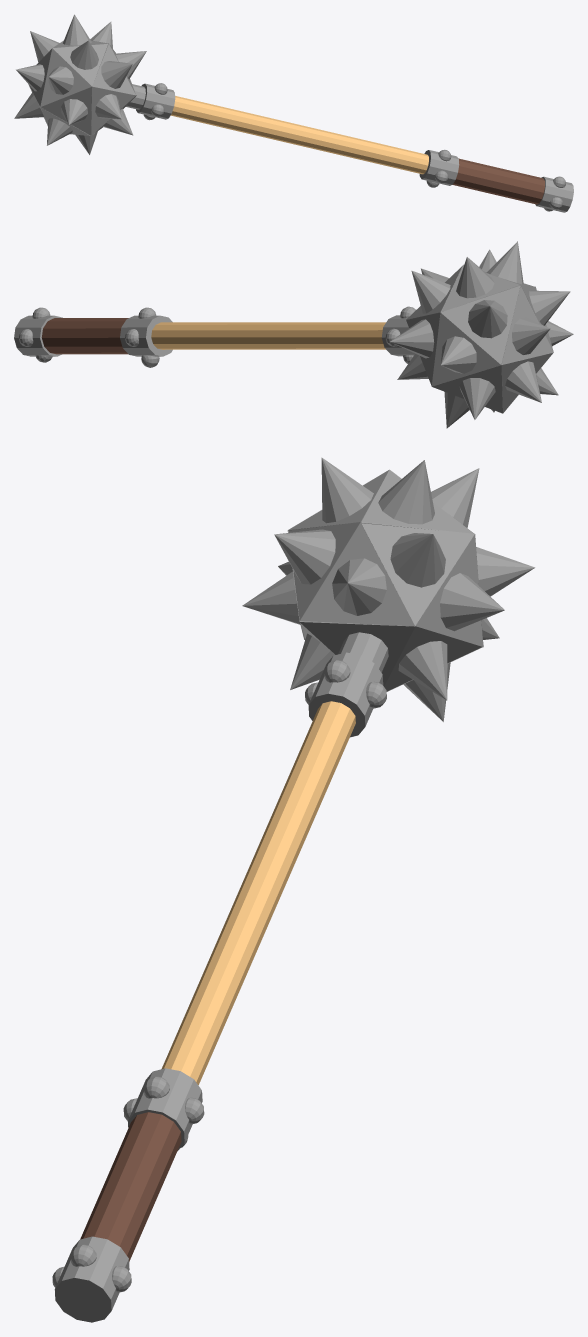
File: bua_1.glb
3 renders of one model, top to bottom at view 1: azimuth 30°, elevation 25°; view 2: azimuth 150°, elevation 25°; view 3: azimuth 270°, elevation 25°, orthographic. The views are drawn at different scales.
Parts seen in each view (by area): view 1: group1101575866, group959692072, group501792076, group171400807, group310584790, group2059926138, group1105470031, group976793585, group1827251229, group1788432290, group183288339, group2082710728 (+18 smaller); view 2: group1101575866, group1953257793, group623634967, group171400807, group1488587242, group501859776, group1950989773, group763270471, group1688169901, group2059926138, group800831554, group2000938442 (+19 smaller); view 3: group1101575866, group2059926138, group2039830722, group197489867, group310584790, group1152983945, group1762314495, group171400807, group183288339, group242294376, group1688169901, group800831554 (+15 smaller).
Boxes of the visible parts, box(x1,y1,x2,y2) form: group1101575866: box(170, 96, 428, 174); group959692072: box(40, 48, 91, 106); group501792076: box(41, 87, 91, 135); group171400807: box(419, 150, 459, 185); group310584790: box(136, 83, 175, 119); group2059926138: box(535, 176, 573, 212); group1105470031: box(91, 86, 135, 135); group976793585: box(53, 44, 108, 86); group1827251229: box(488, 168, 521, 197); group1788432290: box(467, 163, 500, 192); group183288339: box(101, 61, 132, 88); group2082710728: box(70, 40, 98, 69); group1101575866: box(151, 322, 385, 349); group1953257793: box(441, 285, 520, 364); group623634967: box(431, 313, 500, 386); group171400807: box(120, 315, 172, 356); group1488587242: box(468, 300, 507, 338); group501859776: box(501, 285, 553, 364); group1950989773: box(441, 336, 476, 373); group763270471: box(432, 365, 502, 413); group1688169901: box(390, 319, 434, 358); group2059926138: box(14, 315, 62, 356); group800831554: box(456, 257, 494, 298); group2000938442: box(505, 361, 541, 402); group1101575866: box(161, 701, 355, 1084); group2059926138: box(54, 1236, 129, 1322); group2039830722: box(300, 523, 415, 626); group197489867: box(360, 522, 474, 625); group310584790: box(308, 652, 383, 737); group1152983945: box(332, 558, 386, 615); group1762314495: box(390, 533, 445, 587); group171400807: box(128, 1068, 202, 1150); group183288339: box(274, 529, 335, 584); group242294376: box(299, 621, 414, 686); group1688169901: box(440, 573, 504, 631); group800831554: box(378, 460, 434, 524).
Size of the model in its own units: 1.62 by 0.7613 by 0.7128.
